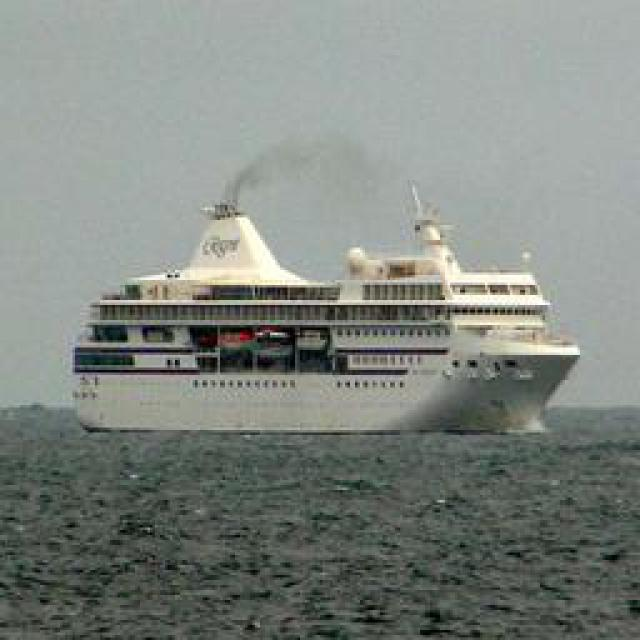Ship: (71, 169, 571, 439)
